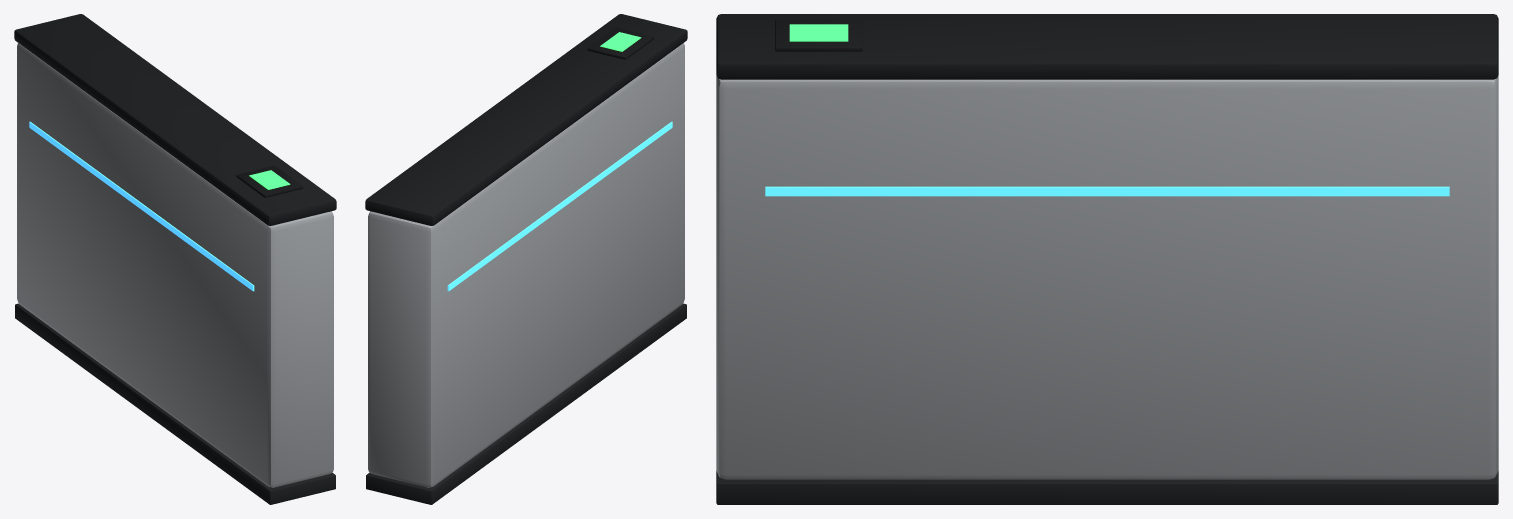
The model's file is vantage_gate.glb.
The picture shows the model from 3 angles, left to right: view 1: azimuth 30°, elevation 25°; view 2: azimuth 150°, elevation 25°; view 3: azimuth 270°, elevation 25°; orthographic projection. The views are drawn at different scales.
Parts seen in each view (by area): view 1: vantage_gate; view 2: vantage_gate; view 3: vantage_gate.
Part boxes in pixels (x1,y1,x2,y2): vantage_gate: [14, 14, 336, 504]; vantage_gate: [365, 14, 687, 504]; vantage_gate: [716, 14, 1498, 504].
Bounding box in the file's own units: 0.25 × 1.01 × 1.6.
